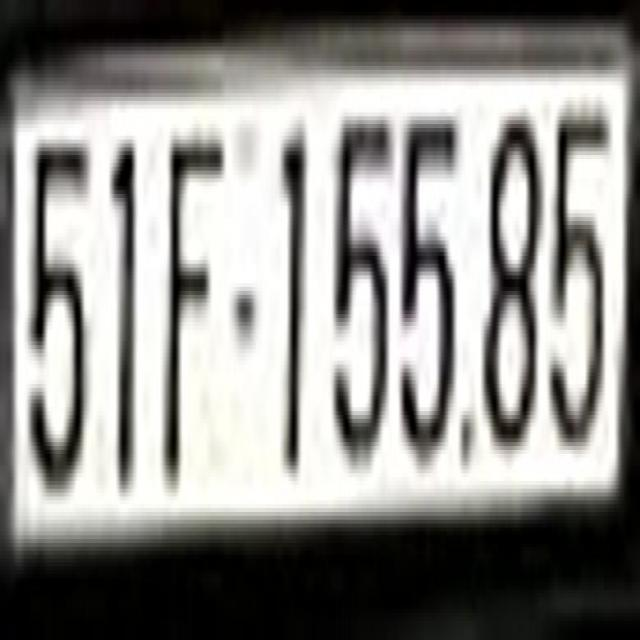1: (274, 109, 305, 492), (107, 128, 138, 508)
5: (398, 105, 462, 465), (334, 105, 395, 481), (29, 128, 89, 508), (549, 101, 611, 458)
8: (478, 116, 544, 454)
F: (159, 120, 225, 504)
